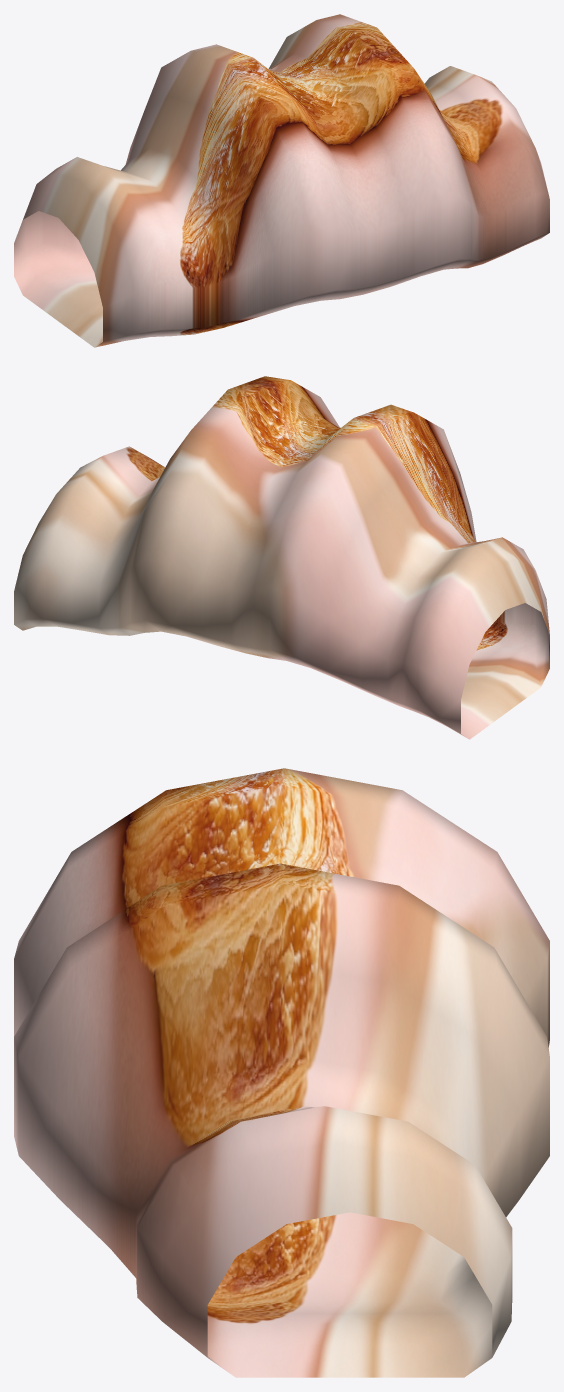
File: prop_croissant.glb
The picture shows the model from 3 angles, top to bottom: view 1: azimuth 30°, elevation 25°; view 2: azimuth 150°, elevation 25°; view 3: azimuth 270°, elevation 25°; orthographic projection. The views are drawn at different scales.
Visible parts, largest first — view 1: prop_croissant; view 2: prop_croissant; view 3: prop_croissant.
Part boxes in pixels (x1,y1,x2,y2): prop_croissant: [14, 14, 549, 347]; prop_croissant: [14, 376, 549, 739]; prop_croissant: [14, 768, 549, 1377].
Bounding box in the file's own units: 0.1298 × 0.0659 × 0.0844.
Materials: 1 (1 with a texture image).
